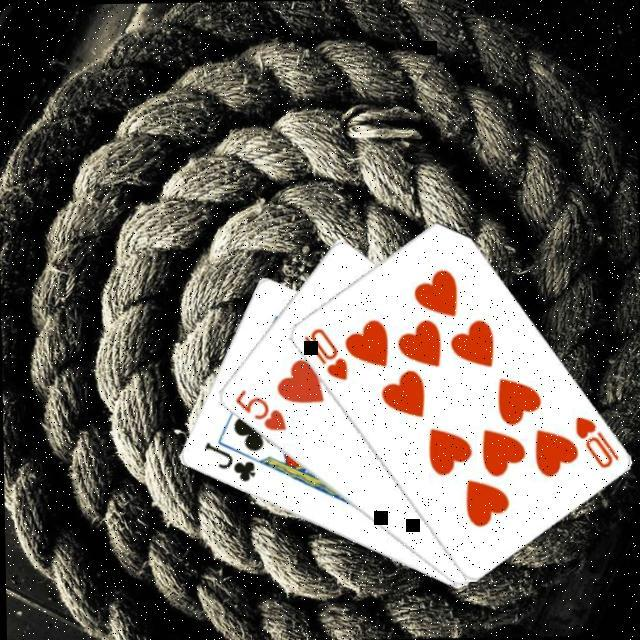10H: (298, 326, 349, 386), (568, 413, 619, 473)
5H: (228, 387, 287, 437)
JC: (198, 440, 256, 488)
